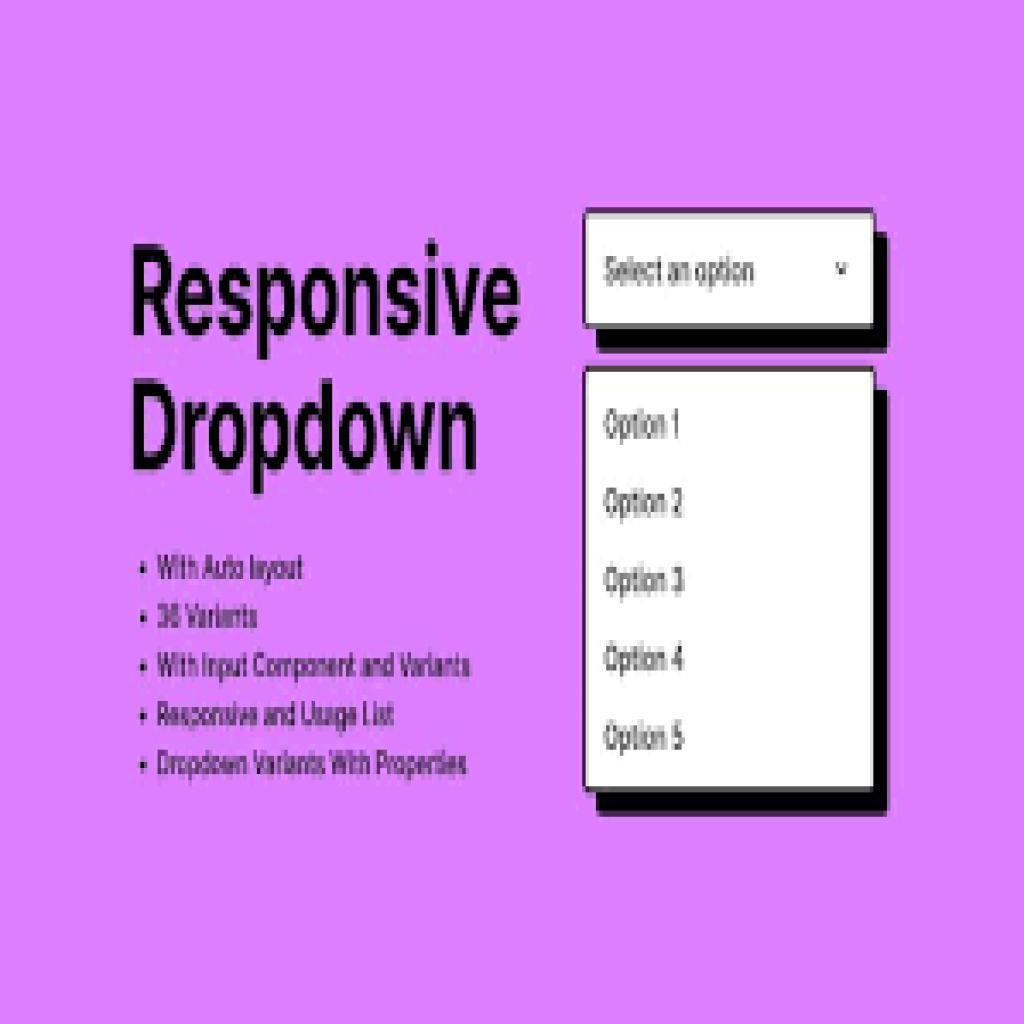dropdown: (590, 215, 876, 328)
